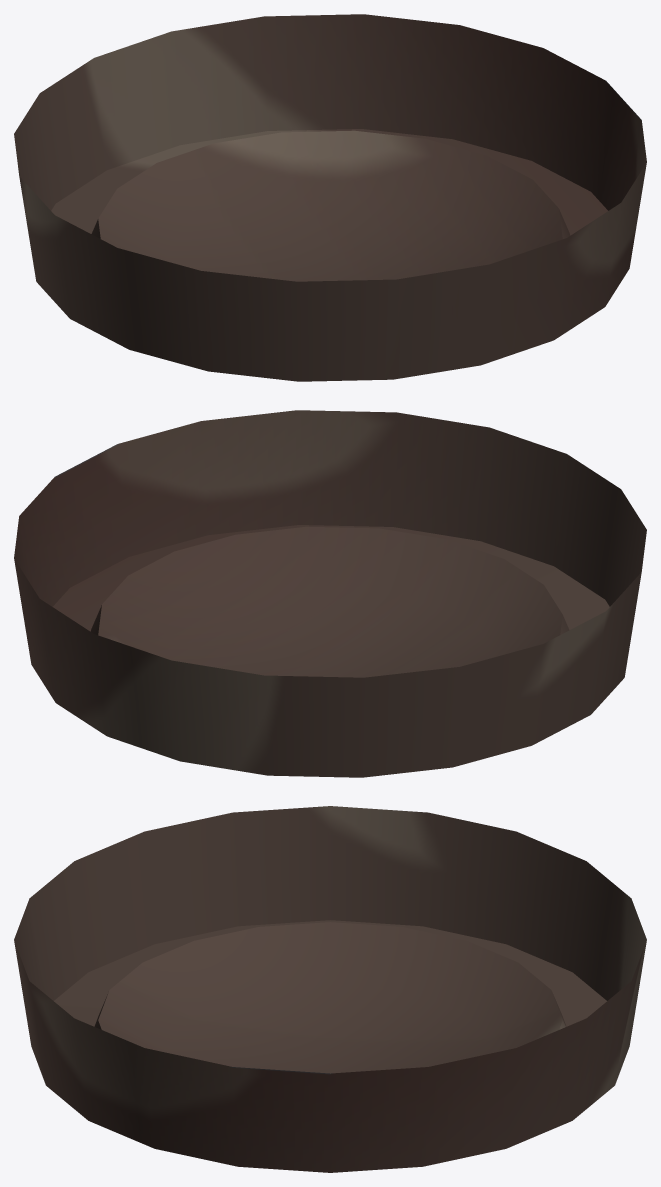
Rendered from CeilingLight.fbx.
3 views of the same model, one above another, from view 1: azimuth 30°, elevation 25°; view 2: azimuth 150°, elevation 25°; view 3: azimuth 270°, elevation 25° (orthographic).
Parts seen in each view (by area): view 1: CeilingLight; view 2: CeilingLight; view 3: CeilingLight.
Part boxes in pixels (<box>): CeilingLight: <box>14,14,646,381</box>; CeilingLight: <box>14,410,646,777</box>; CeilingLight: <box>14,806,646,1172</box>.
Size of the model in its own units: 28.34 by 6.4 by 28.34.
